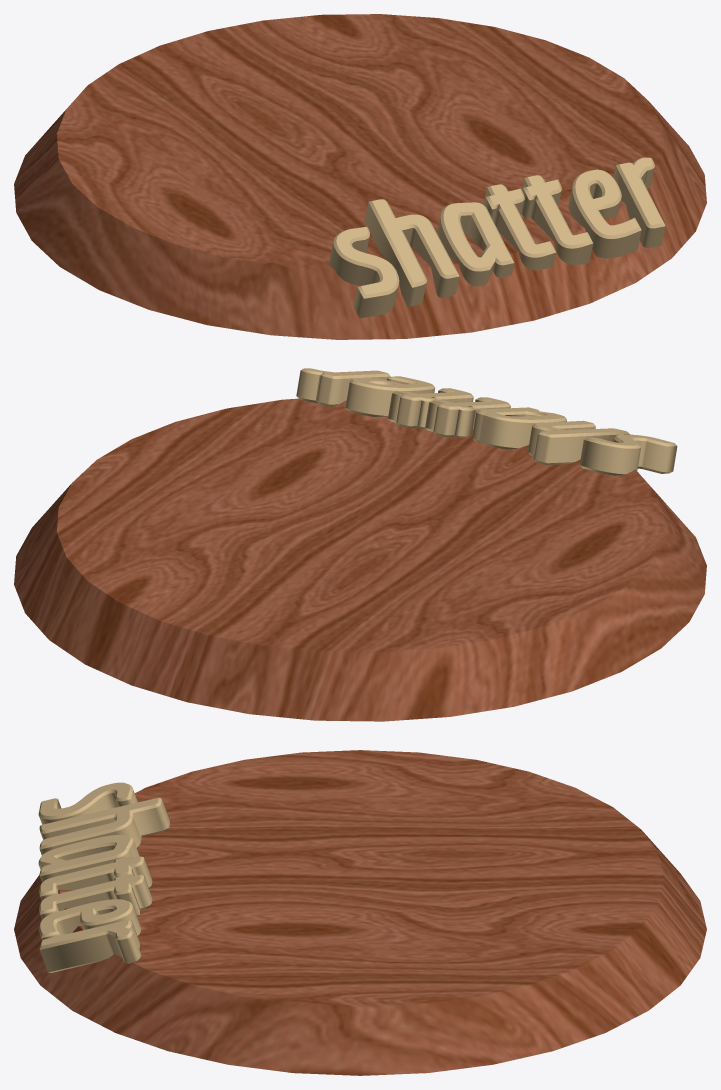
The model's file is Wand-Base-shatter.fbx.
The picture shows the model from 3 angles, top to bottom: view 1: azimuth 30°, elevation 25°; view 2: azimuth 150°, elevation 25°; view 3: azimuth 270°, elevation 25°; orthographic projection.
Parts seen in each view (by area): view 1: Cylinder; view 2: Cylinder; view 3: Cylinder.
Boxes of the visible parts, x1,y1,x2,y2 form: Cylinder: (14, 14, 706, 339); Cylinder: (14, 368, 706, 721); Cylinder: (14, 750, 706, 1075).
Bounding box in the file's own units: 28.9 × 4.06 × 28.9.
Materials: 2 (1 with a texture image).
